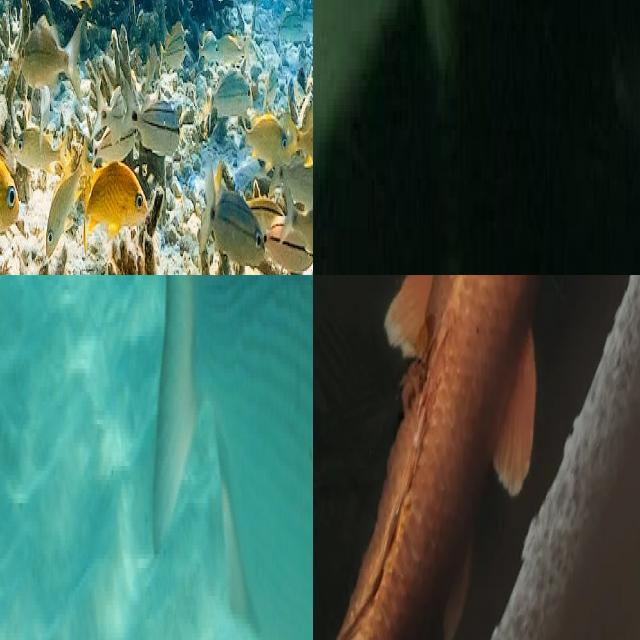fish: (313, 275, 554, 640), (0, 0, 313, 275)
